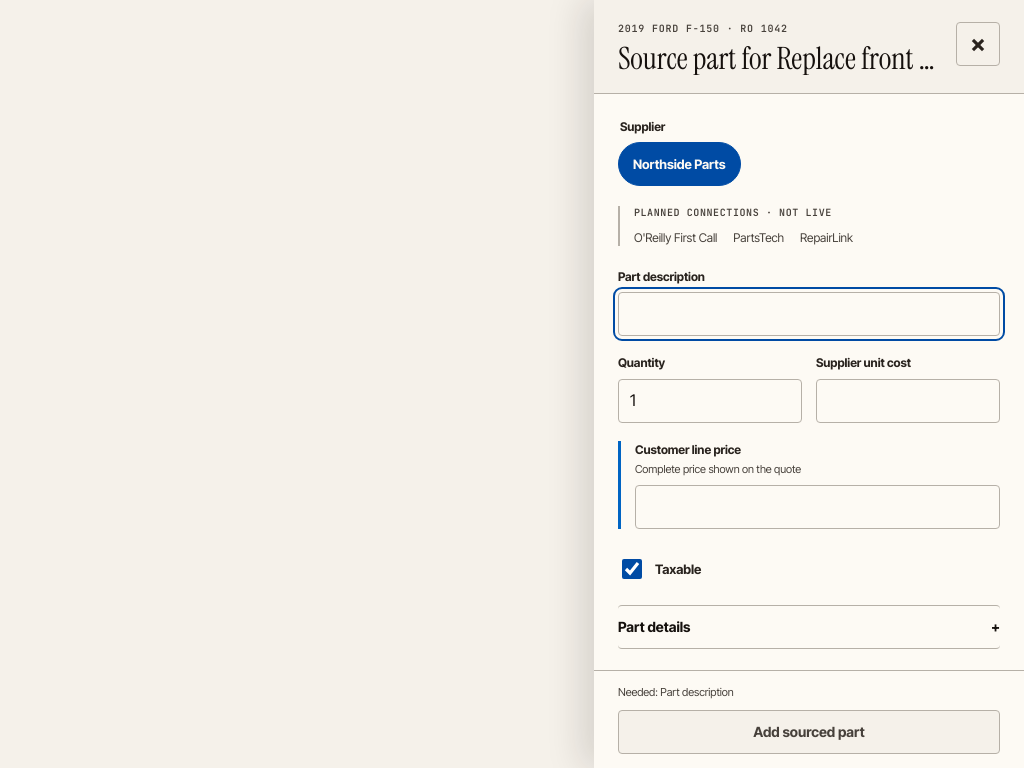
Test: ManualPartSourcing › keeps commit disabled for any invalid field and announces saving politely
Step 1. Type "Brake pads" into the field labelled "Part description" → (809, 314), box [618,292,1000,336]
Step 2. Replace the text in the field labelled "Quantity" with "2" → (710, 401), box [618,379,802,423]
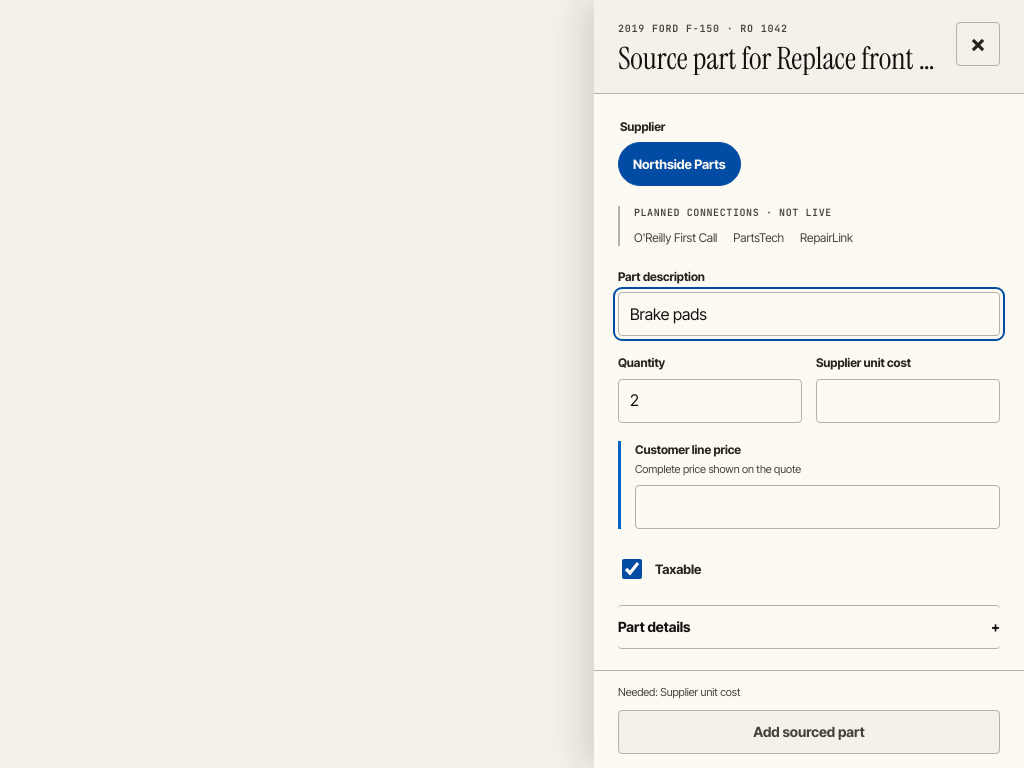
Step 3. Type "80" into the field labelled "Supplier unit cost" → (908, 401), box [816,379,1000,423]
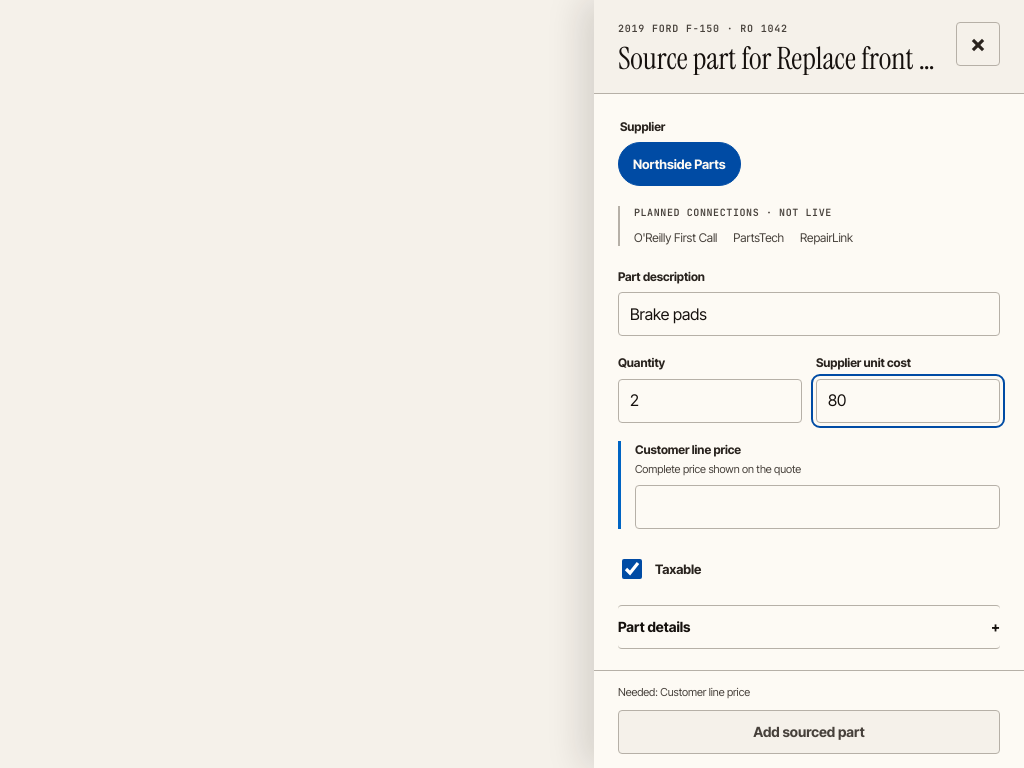
Step 4. Type "240" into the field labelled "Customer line price" → (817, 507), box [635,485,1000,529]
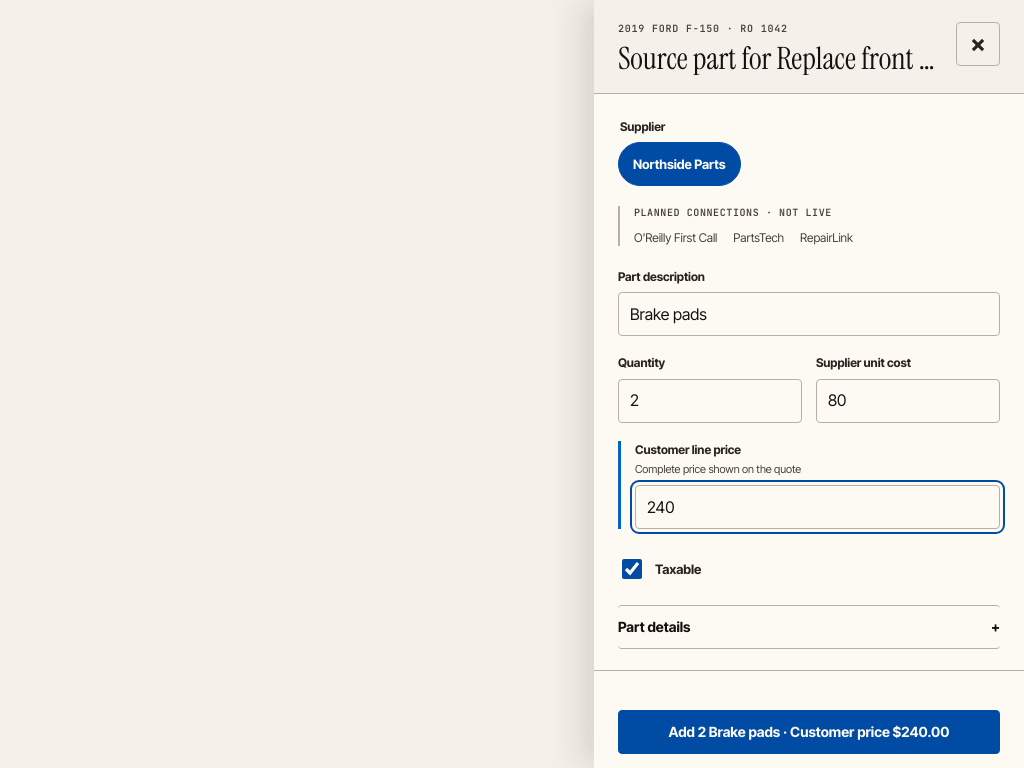
Expected: the button "Add 2 Brake pads · Customer price $240.00" is enabled, [618,710,1000,754]
Step 5. Replace the text in the field labelled "Quantity" with "0" → (710, 401), box [618,379,802,423]
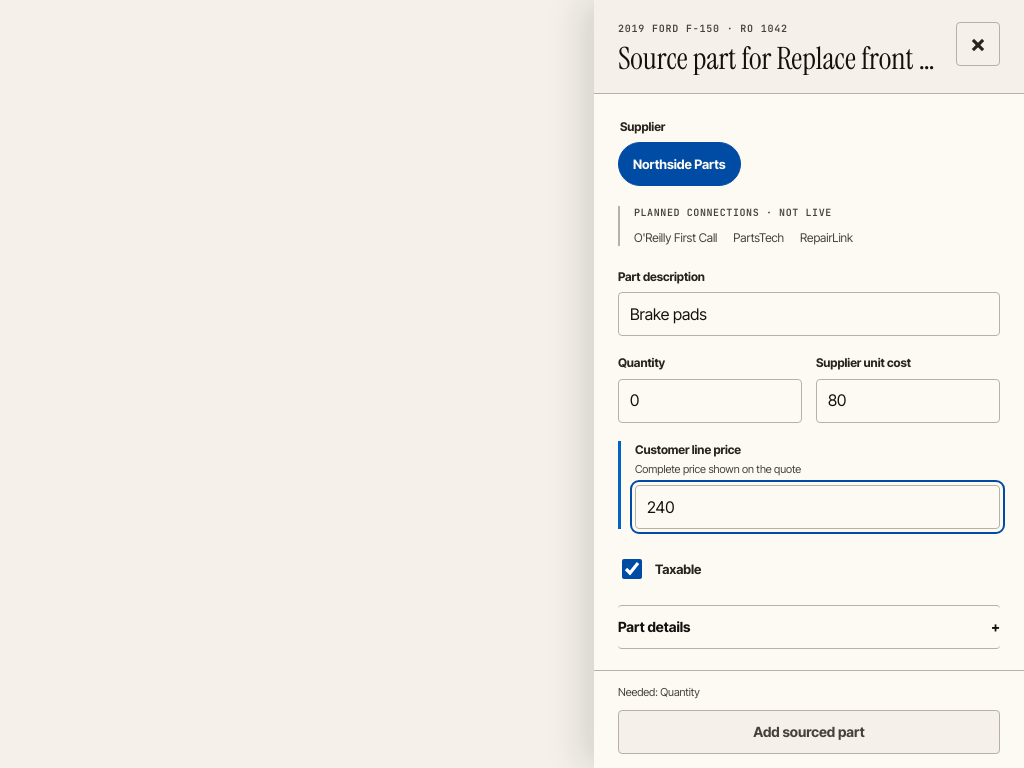
Expected: the button named "Add 2 Brake pads" is disabled, [618,710,1000,754]
Expected: the message reads "Needed: Quantity", [618,685,700,699]
Step 6. Replace the text in the field labelled "Quantity" with "2" → (710, 401), box [618,379,802,423]
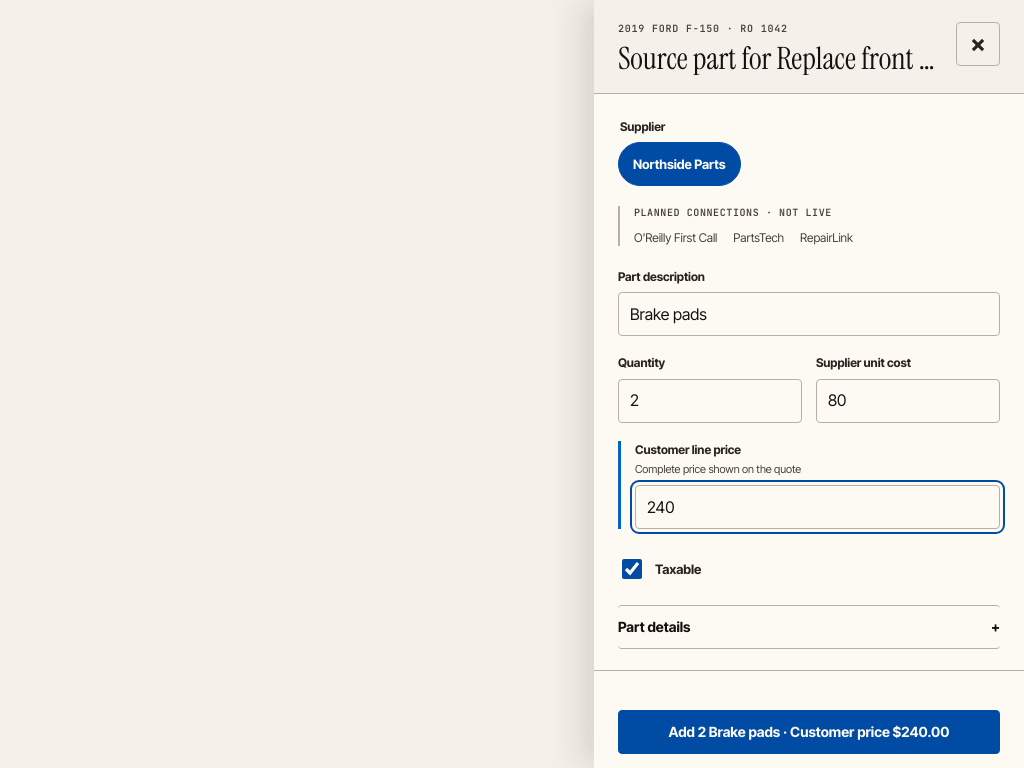
Step 7. Click the button "Add 2 Brake pads · Customer price $240.00" → (809, 732), box [618,710,1000,754]
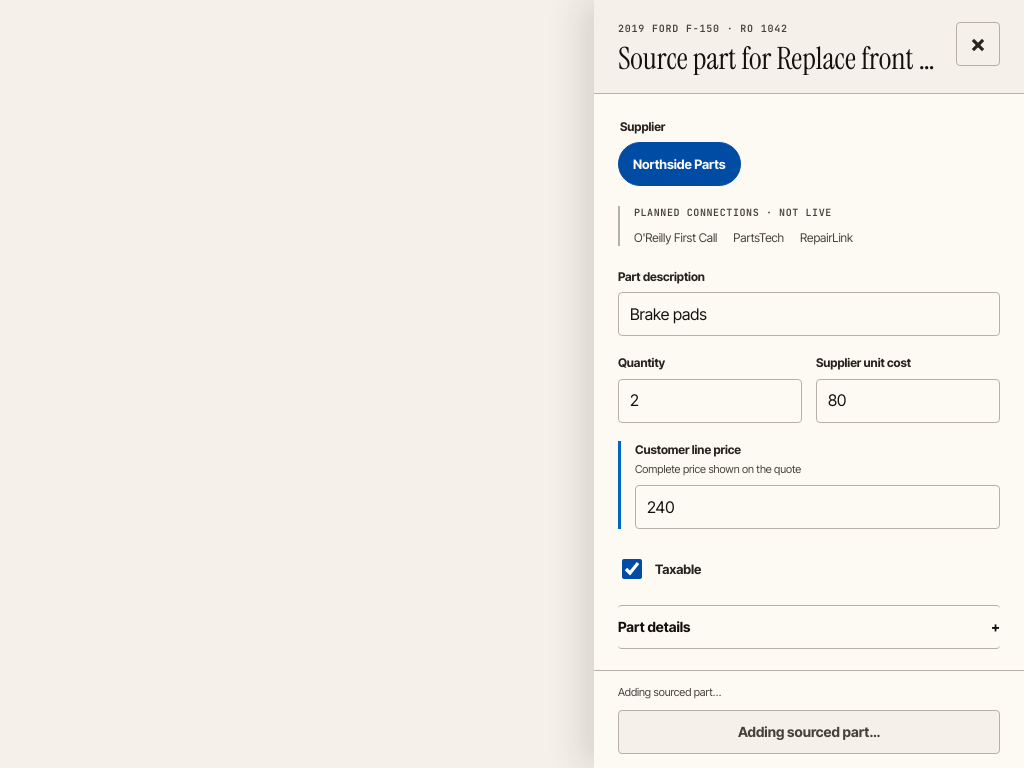
Expected: the message reads "Adding sourced part…", [618,685,721,699]
